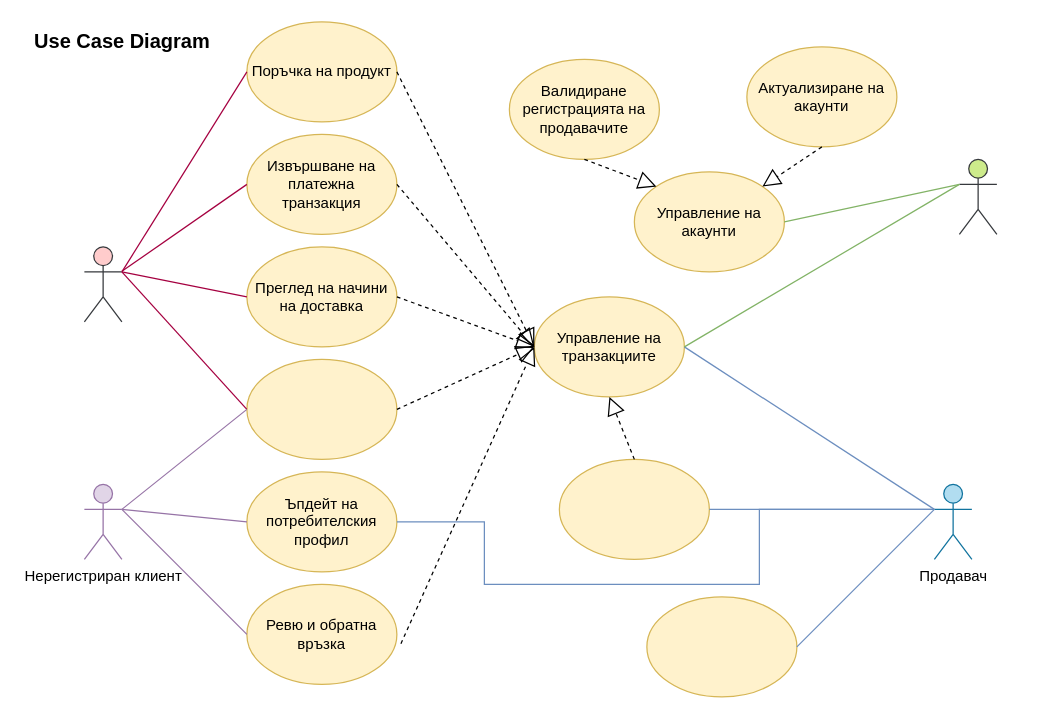
Some shapes in this 1054 by 719 pixel diagram are drawn without their labels. Here are the shapes that lost their labels. From the top down, the centre of each, then its label:
the point at 977,196: Администратор
the point at 102,284: Регистриран клиент
the point at 321,408: Log in / Log out
the point at 633,508: Потвърждение на транзакционни детайли
the point at 721,646: Следене на продажбите и разходите
